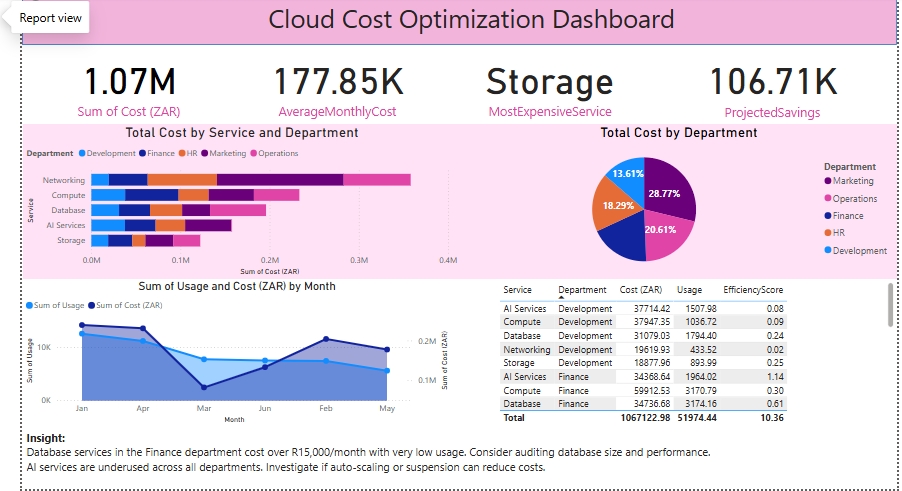

The page's visual inventory and layout, read from the dashboard file:
{"tool":"powerbi","page":{"name":"Page 1","canvas":[1280,720],"ordinal":0},"visuals":[{"type":"shape","box":[0,0,1280.5,70.2],"z":0},{"type":"textbox","box":[228.3,13.2,864.9,57.1],"z":1000},{"type":"card","fields":{"Values":["Sum(Sheet1.Cost (ZAR))"]},"box":[0,70.2,313.2,147.8],"z":2000},{"type":"card","fields":{"Values":["Sheet1.AverageMonthlyCost"]},"box":[294.1,70.2,335.1,147.8],"z":3000},{"type":"card","fields":{"Values":["Sheet1.MostExpensiveService"]},"box":[629.3,70.2,286.8,147.8],"z":4000},{"type":"card","fields":{"Values":["Sheet1.ProjectedSavings"]},"box":[916.1,70.2,352.7,147.8],"z":5000},{"type":"barChart","title":"Total Cost by Service and Department","fields":{"Series":["Sheet1.Department"],"Category":["Sheet1.Service"],"Y":["Sum(Sheet1.Cost (ZAR))"]},"box":[1.5,206.3,641,237.1],"z":6000},{"type":"pieChart","title":"Total Cost by Department","fields":{"Category":["Sheet1.Department"],"Y":["Sum(Sheet1.Cost (ZAR))"]},"box":[642.4,206.3,638,237.1],"z":7000},{"type":"areaChart","title":"Sum of Usage and Cost (ZAR) by Month","fields":{"Category":["Sheet1.Month"],"Y":["Sum(Sheet1.Usage)"],"Y2":["Sum(Sheet1.Cost (ZAR))"]},"box":[0,484.4,629.3,225.4],"z":8000},{"type":"tableEx","fields":{"Values":["Sheet1.Service","Sheet1.Department","Sum(Sheet1.Cost (ZAR))","Sum(Sheet1.Usage)","Sum(Sheet1.EfficiencyScore)"]},"box":[693.7,443.4,586.8,266.3],"z":9000}]}

Visuals, with their boxes on the page's 1280x720 design canvas (x1, y1, x2, y2). These are canvas units, not pixel positions in the 902x491 screenshot, which may show the page scaled, cropped or inside an application window:
shape: bbox=(0, 0, 1280, 70)
textbox: bbox=(228, 13, 1093, 70)
card - Sum(Sheet1.Cost (ZAR)): bbox=(0, 70, 313, 218)
card - Sheet1.AverageMonthlyCost: bbox=(294, 70, 629, 218)
card - Sheet1.MostExpensiveService: bbox=(629, 70, 916, 218)
card - Sheet1.ProjectedSavings: bbox=(916, 70, 1269, 218)
"Total Cost by Service and Department" barChart: bbox=(2, 206, 642, 443)
"Total Cost by Department" pieChart: bbox=(642, 206, 1280, 443)
"Sum of Usage and Cost (ZAR) by Month" areaChart: bbox=(0, 484, 629, 710)
tableEx - Sheet1.Service x Sheet1.Department: bbox=(694, 443, 1280, 710)
